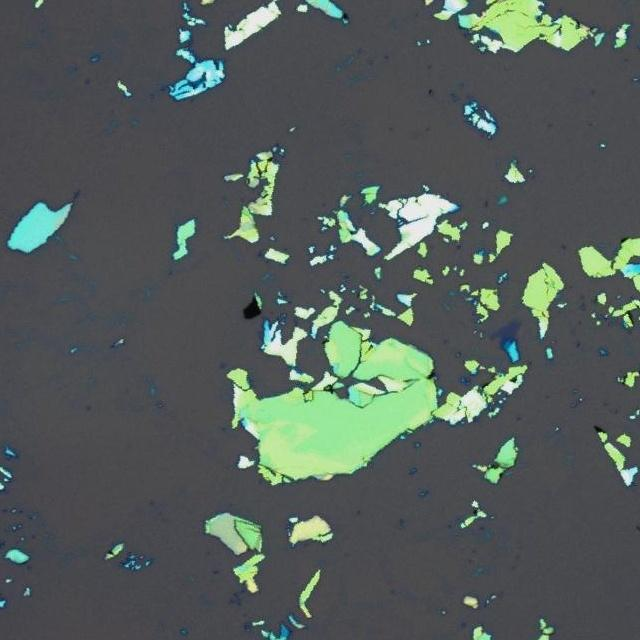monolayer-eWW4: (488, 319, 520, 343)
